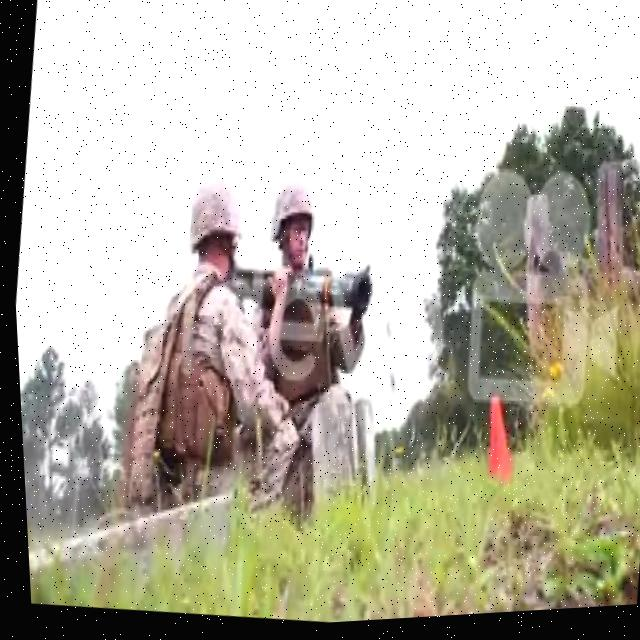rocket: (237, 255, 373, 332)
